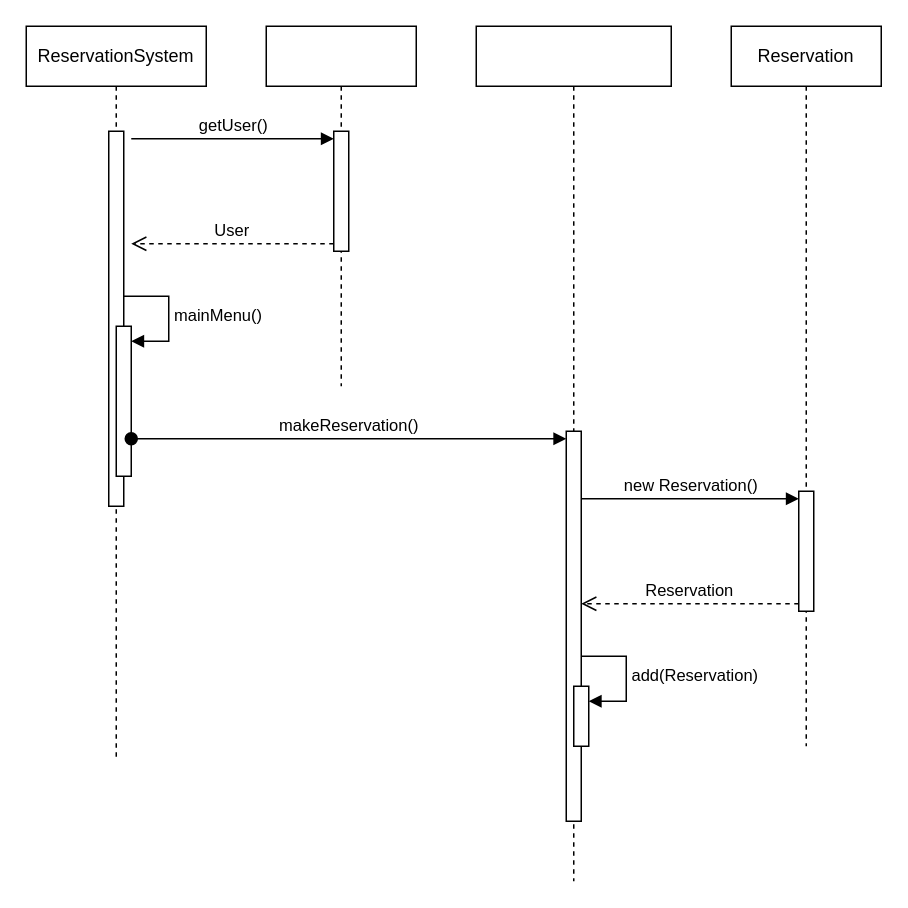
Some shapes in this 908 by 908 pixel diagram are drawn without their labels. The shapes that lost their labels are listed below. From the top down, each one's box as (x1, y1, x2, y2) in pixels, then its label:
(265, 25, 416, 386): UserManager
(475, 25, 671, 881): ReservationManager
